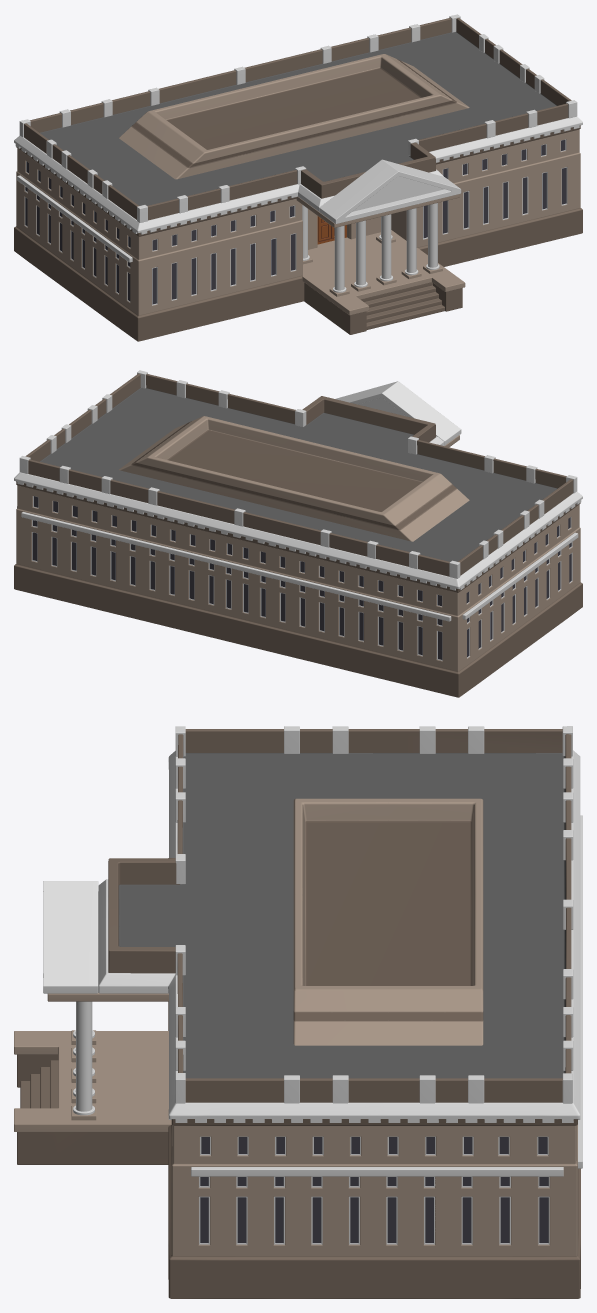
Rendered from Courthouse.glb.
The picture shows the model from 3 angles, top to bottom: view 1: azimuth 30°, elevation 25°; view 2: azimuth 150°, elevation 25°; view 3: azimuth 270°, elevation 25°; orthographic projection. The views are drawn at different scales.
Parts seen in each view (by area): view 1: court_house.1; view 2: court_house.1; view 3: court_house.1.
Part boxes in pixels (box(x1,y1,x2,y2)): court_house.1: box(14, 14, 582, 341); court_house.1: box(14, 370, 582, 697); court_house.1: box(14, 726, 582, 1298).
Size of the model in its own units: 19.89 by 6.11 by 13.19.
1 material, 1 textured.
